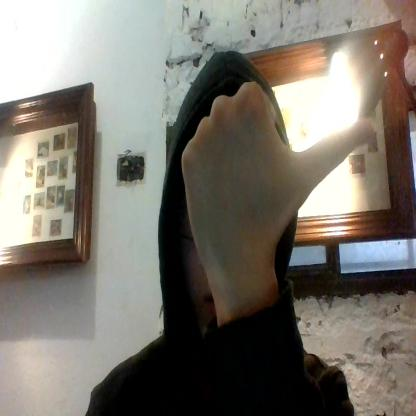left: (177, 77, 375, 258)
